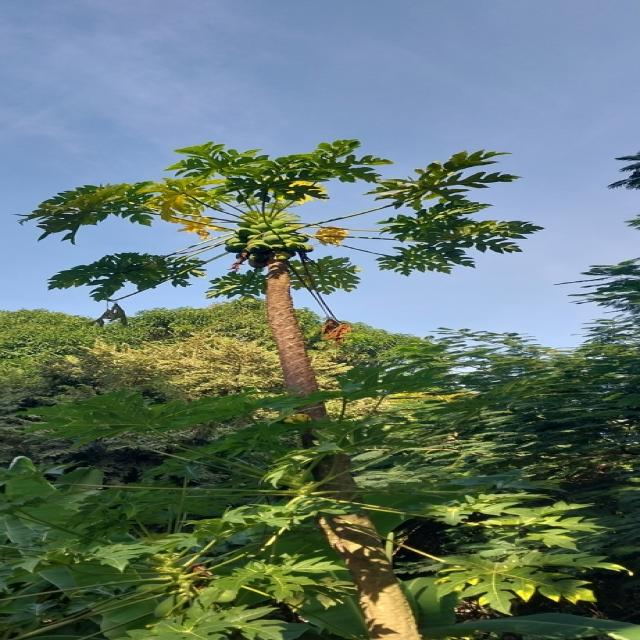Papaya-Tree: (11, 107, 547, 414)
